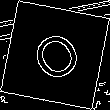O_SE: (22, 22, 88, 88)
